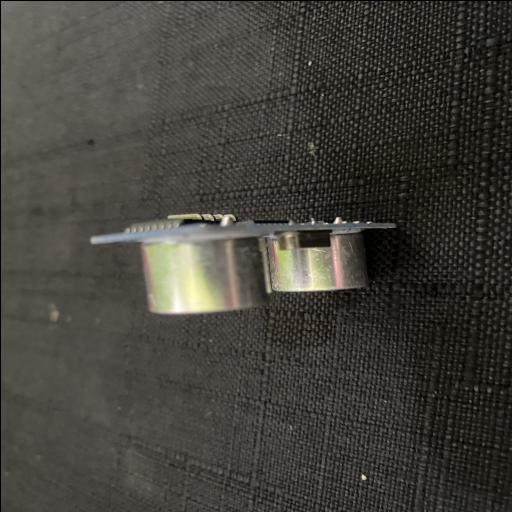Ultrasonic Sensor: (89, 212, 399, 314)
